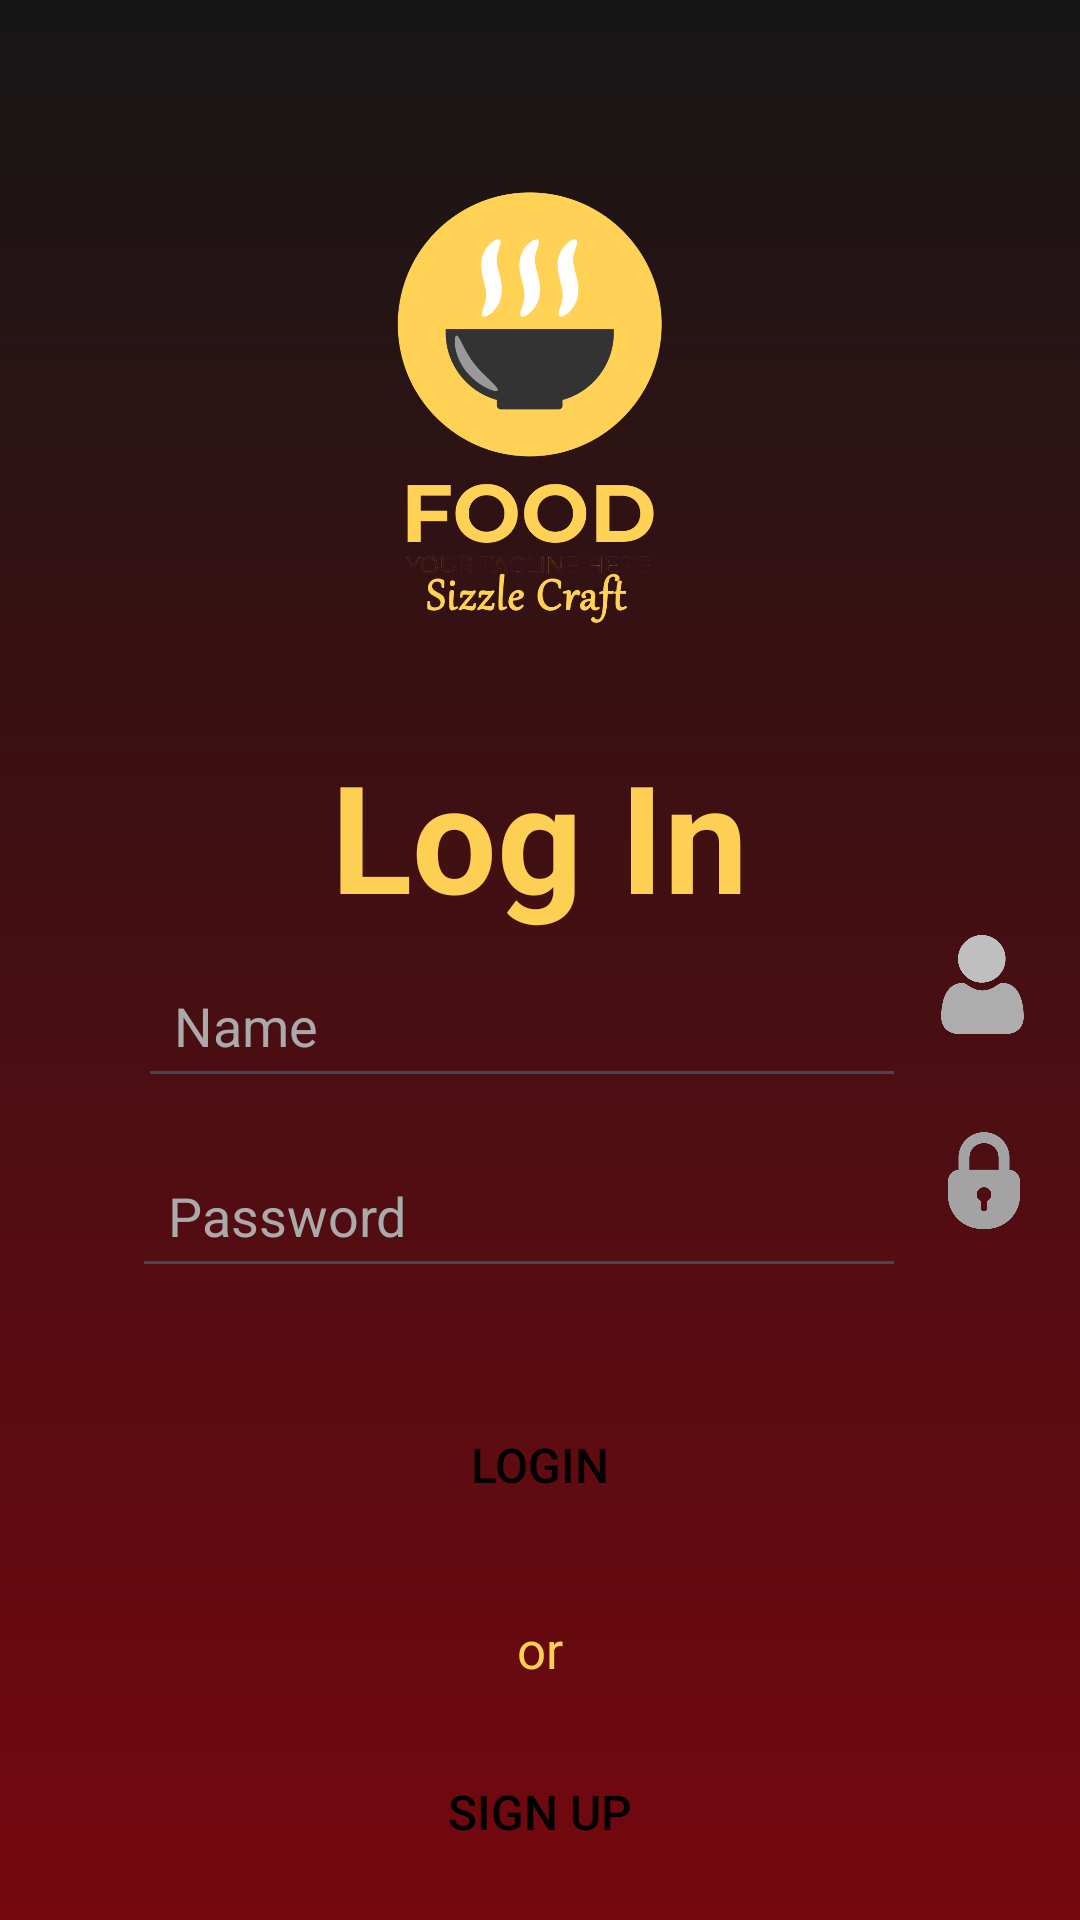

Icons on this 1080px x 1920px Android screen, each with the point to tap as [x,y]:
Lock Icon: [984,1180]
User Icon: [982,984]
